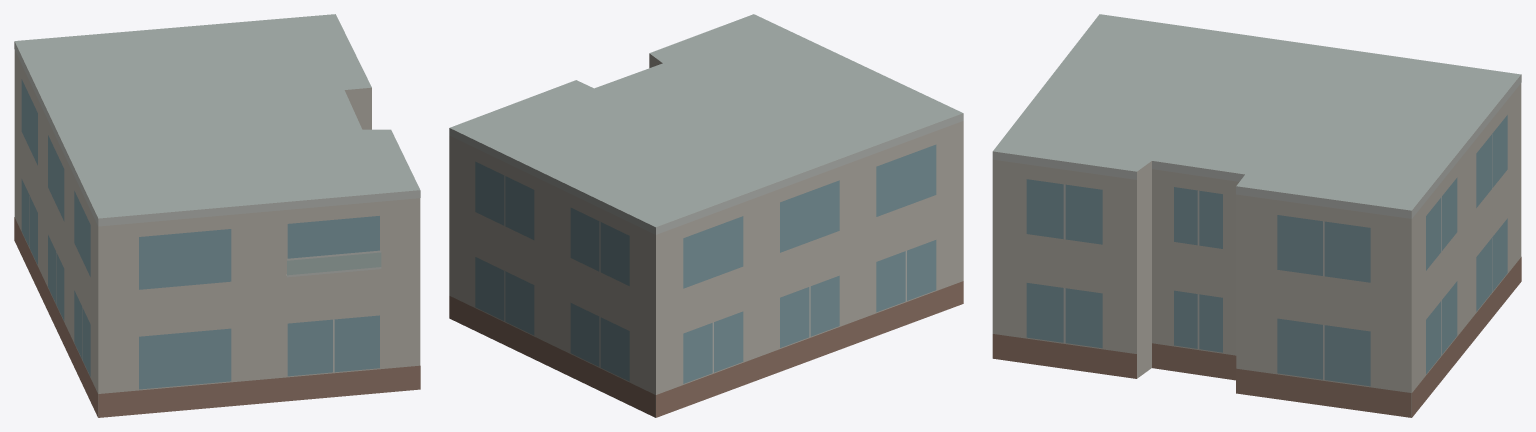
Rendered from survey-upis-32713072.glb.
3 renders of one model, left to right at view 1: azimuth 30°, elevation 25°; view 2: azimuth 150°, elevation 25°; view 3: azimuth 270°, elevation 25°, orthographic. The views are drawn at different scales.
Visible parts, largest first — view 1: survey-upis-32713072.tmp; view 2: survey-upis-32713072.tmp; view 3: survey-upis-32713072.tmp.
Boxes of the visible parts, x1=… form: survey-upis-32713072.tmp: x1=14, y1=14, x2=420, y2=417; survey-upis-32713072.tmp: x1=449, y1=14, x2=963, y2=417; survey-upis-32713072.tmp: x1=992, y1=14, x2=1521, y2=417.
Size of the model in its own units: 12.42 by 6.1 by 14.11.
